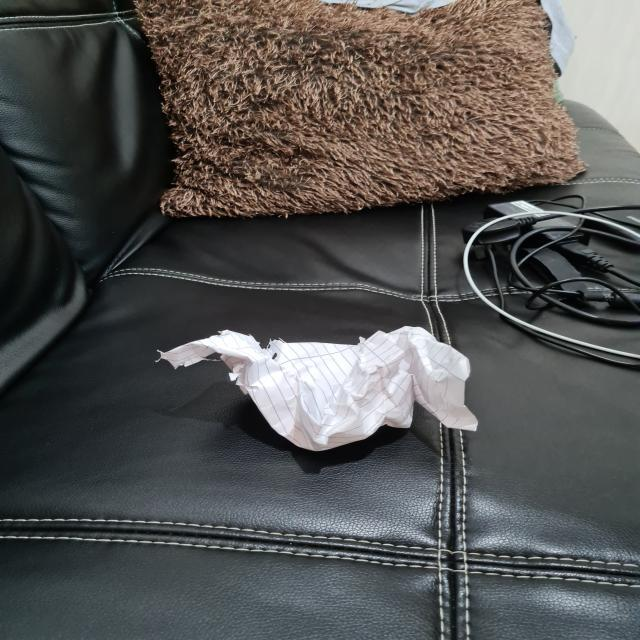Paper: (154, 333, 482, 455)
